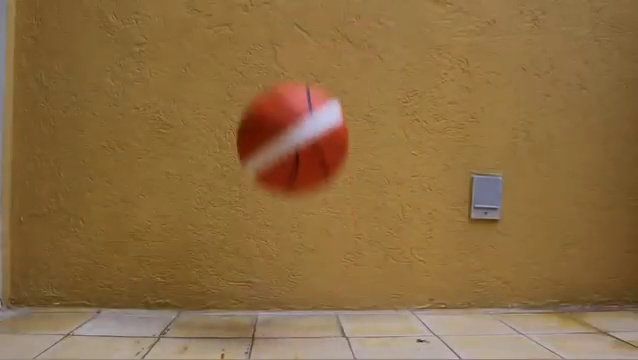ball: (236, 81, 350, 200)
